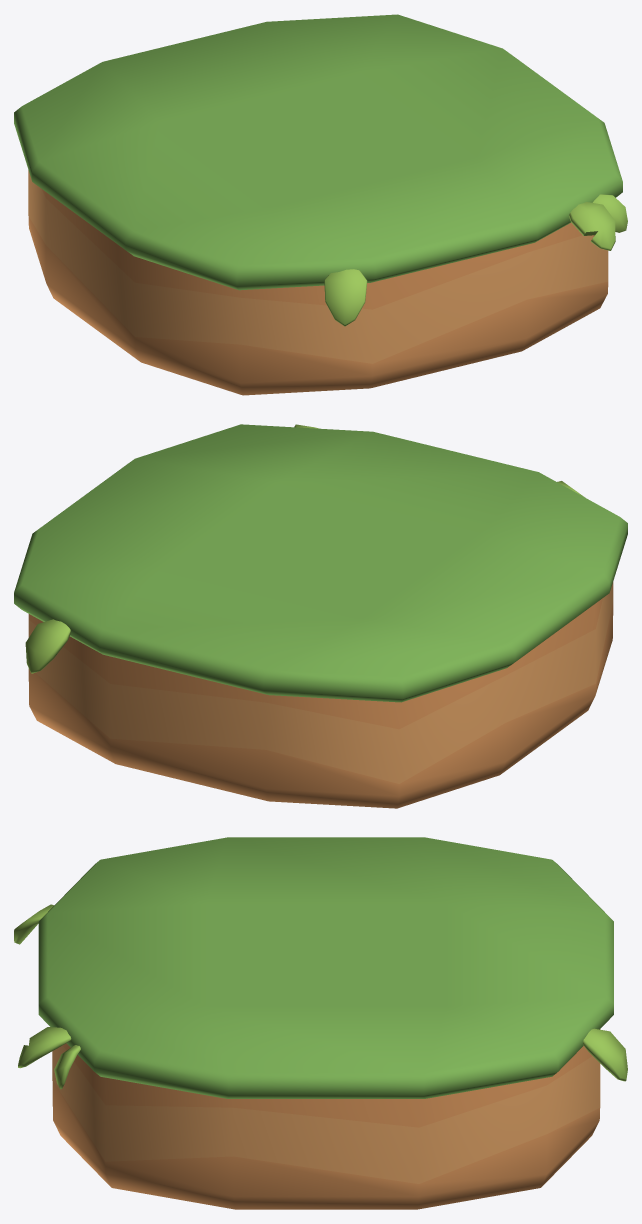
The model's file is platform 01.fbx.
The picture shows the model from 3 angles, top to bottom: view 1: azimuth 30°, elevation 25°; view 2: azimuth 150°, elevation 25°; view 3: azimuth 270°, elevation 25°; orthographic projection. The views are drawn at different scales.
Parts seen in each view (by area): view 1: platform 01; view 2: platform 01; view 3: platform 01.
Part boxes in pixels (x1,y1,x2,y2): platform 01: [14, 14, 627, 395]; platform 01: [14, 424, 627, 808]; platform 01: [14, 837, 627, 1209].
Bounding box in the file's own units: 210 × 59.96 × 224.
1 material, 1 textured.
